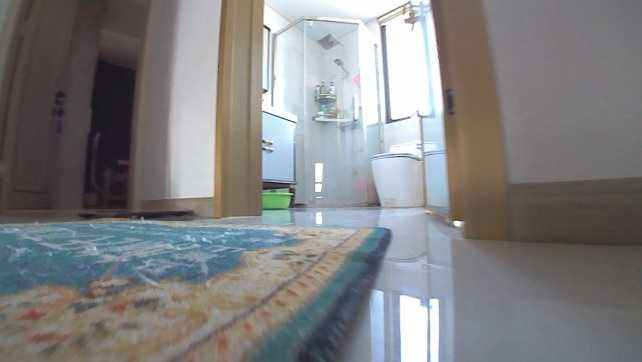blanket: (0, 219, 391, 360)
door_anno: (1, 0, 86, 206)
toilet: (368, 140, 428, 209)
